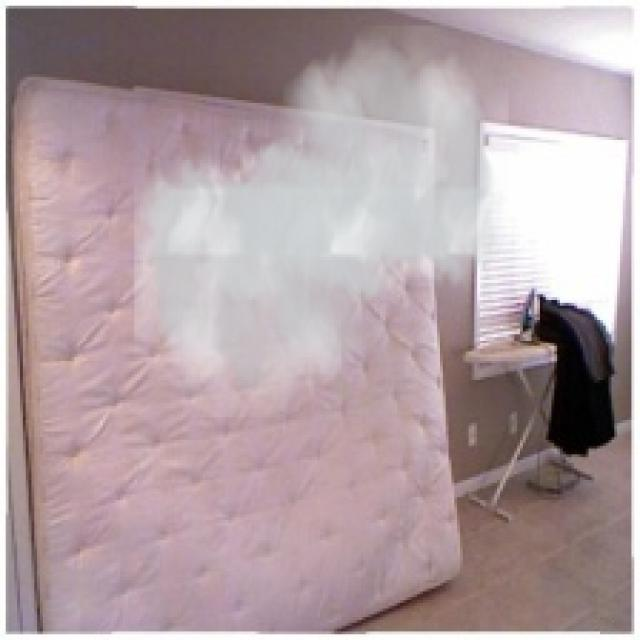smoke: (134, 26, 509, 417)
